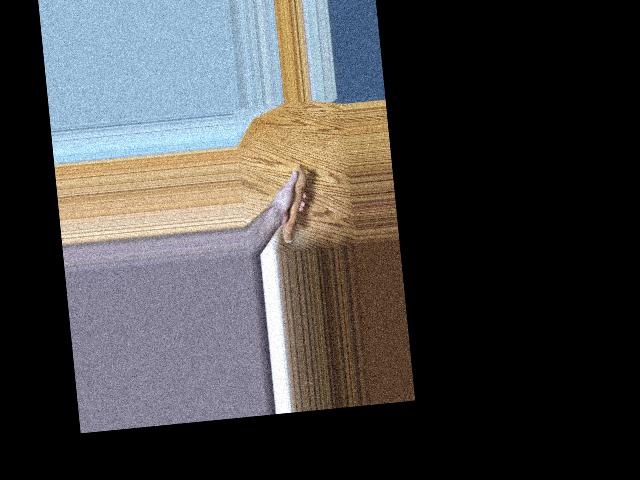sweet_potato: (273, 166, 315, 244)
